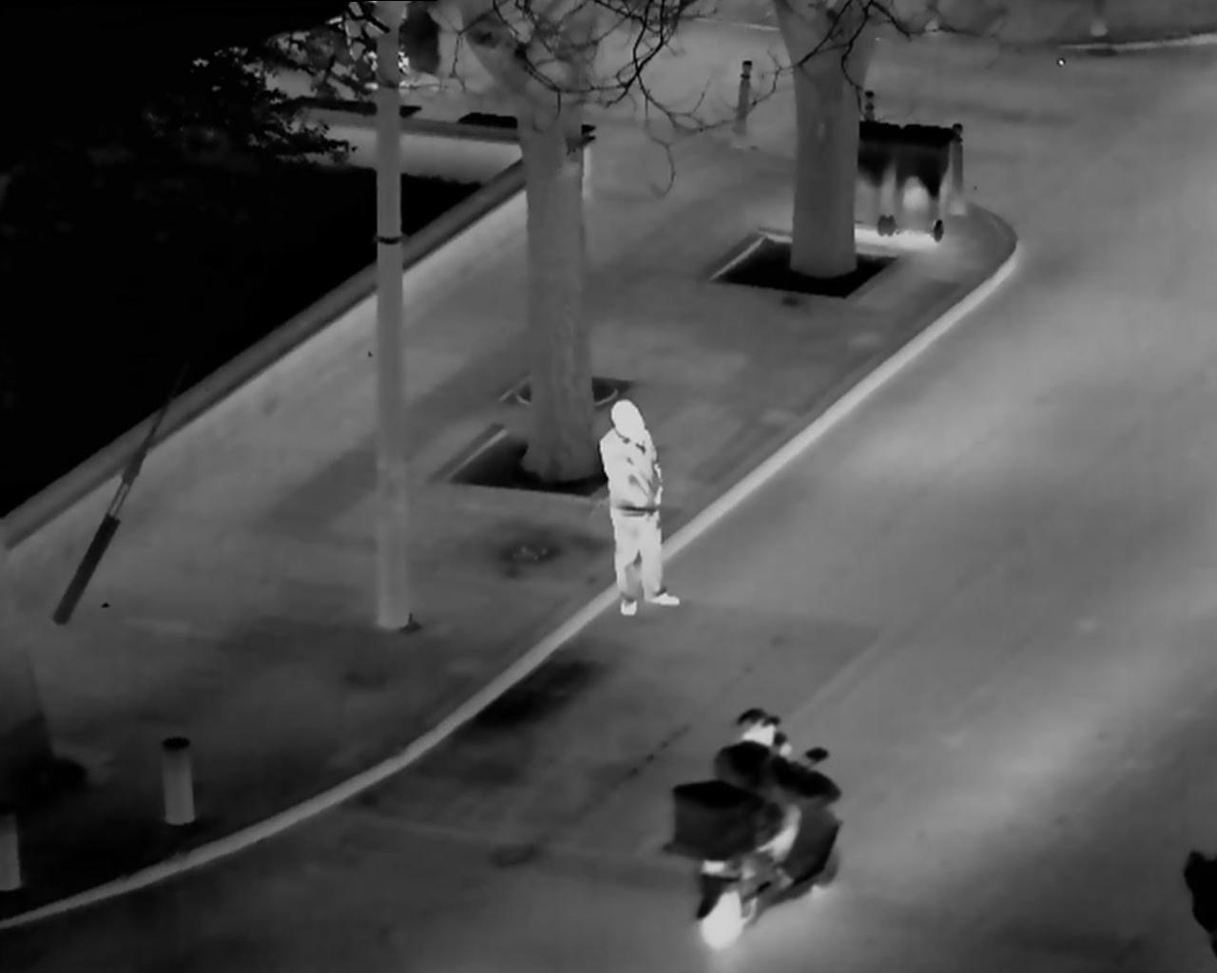person: (703, 699, 822, 928), (589, 391, 685, 623)
